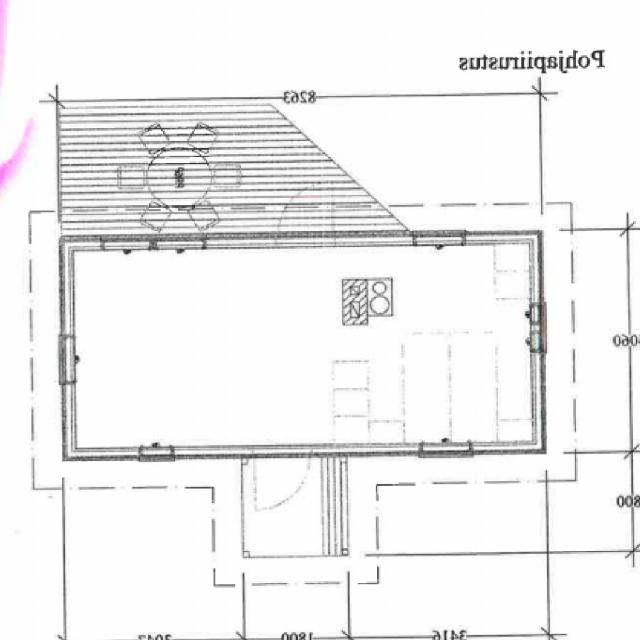door: (278, 176, 336, 246), (255, 446, 312, 513)
